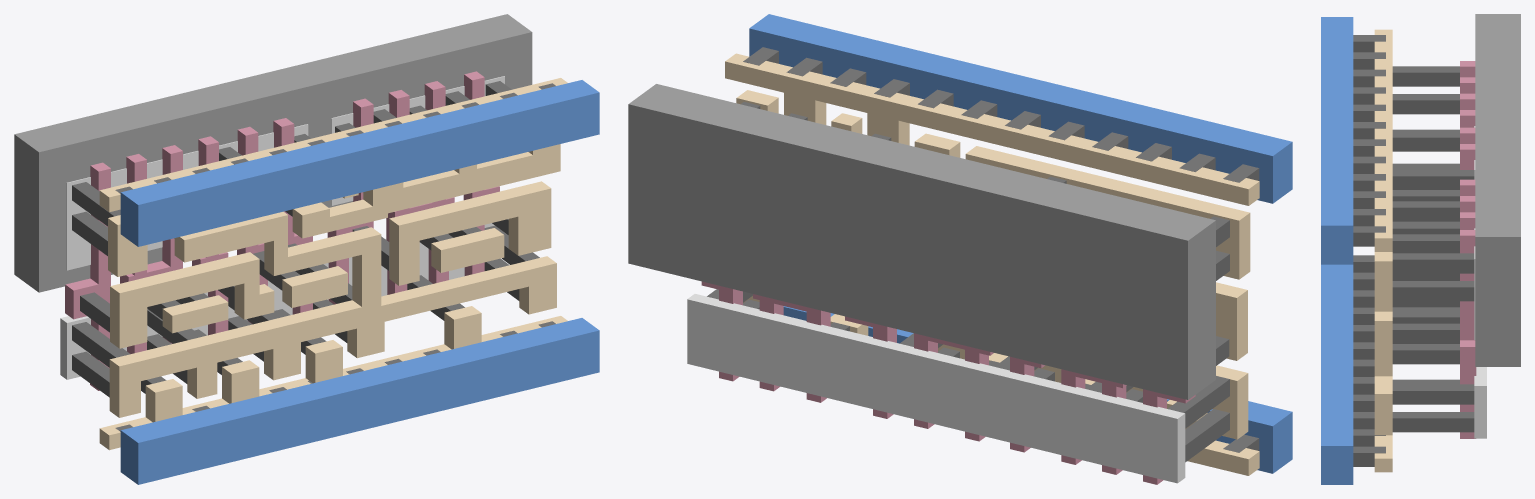
File: sky130_fd_sc_hd__a2111oi_2.gds.gltf
3 views of the same model, side by side, from view 1: azimuth 30°, elevation 25°; view 2: azimuth 150°, elevation 25°; view 3: azimuth 270°, elevation 25° (orthographic). The views are drawn at different scales.
Visible parts, largest first — view 1: sky130_fd_sc_hd__a2111oi_2_li1, sky130_fd_sc_hd__a2111oi_2_met1, sky130_fd_sc_hd__a2111oi_2_nwell, sky130_fd_sc_hd__a2111oi_2_licon, sky130_fd_sc_hd__a2111oi_2_poly, sky130_fd_sc_hd__a2111oi_2_diff, sky130_fd_sc_hd__a2111oi_2_mcon; view 2: sky130_fd_sc_hd__a2111oi_2_nwell, sky130_fd_sc_hd__a2111oi_2_diff, sky130_fd_sc_hd__a2111oi_2_li1, sky130_fd_sc_hd__a2111oi_2_met1, sky130_fd_sc_hd__a2111oi_2_poly, sky130_fd_sc_hd__a2111oi_2_mcon, sky130_fd_sc_hd__a2111oi_2_licon; view 3: sky130_fd_sc_hd__a2111oi_2_licon, sky130_fd_sc_hd__a2111oi_2_nwell, sky130_fd_sc_hd__a2111oi_2_met1, sky130_fd_sc_hd__a2111oi_2_mcon, sky130_fd_sc_hd__a2111oi_2_li1, sky130_fd_sc_hd__a2111oi_2_poly, sky130_fd_sc_hd__a2111oi_2_diff.
Boxes of the visible parts, x1,y1,x2,y2 form: sky130_fd_sc_hd__a2111oi_2_li1: (99, 78, 567, 450); sky130_fd_sc_hd__a2111oi_2_met1: (120, 80, 599, 484); sky130_fd_sc_hd__a2111oi_2_nwell: (14, 14, 532, 292); sky130_fd_sc_hd__a2111oi_2_licon: (72, 81, 539, 397); sky130_fd_sc_hd__a2111oi_2_poly: (65, 71, 499, 390); sky130_fd_sc_hd__a2111oi_2_diff: (60, 76, 504, 379); sky130_fd_sc_hd__a2111oi_2_mcon: (115, 83, 555, 431); sky130_fd_sc_hd__a2111oi_2_nwell: (628, 84, 1215, 399); sky130_fd_sc_hd__a2111oi_2_diff: (687, 294, 1185, 483); sky130_fd_sc_hd__a2111oi_2_li1: (725, 53, 1259, 475); sky130_fd_sc_hd__a2111oi_2_met1: (749, 14, 1292, 473); sky130_fd_sc_hd__a2111oi_2_poly: (701, 281, 1195, 484); sky130_fd_sc_hd__a2111oi_2_mcon: (743, 47, 1259, 452); sky130_fd_sc_hd__a2111oi_2_licon: (707, 102, 1229, 462); sky130_fd_sc_hd__a2111oi_2_licon: (1392, 66, 1474, 432); sky130_fd_sc_hd__a2111oi_2_nwell: (1475, 14, 1520, 366); sky130_fd_sc_hd__a2111oi_2_met1: (1321, 17, 1353, 484); sky130_fd_sc_hd__a2111oi_2_mcon: (1353, 35, 1385, 466); sky130_fd_sc_hd__a2111oi_2_li1: (1374, 29, 1392, 472); sky130_fd_sc_hd__a2111oi_2_poly: (1460, 61, 1476, 438); sky130_fd_sc_hd__a2111oi_2_diff: (1474, 126, 1486, 438).
Bounding box in the file's own units: 5.9 × 3.2 × 2.24.
